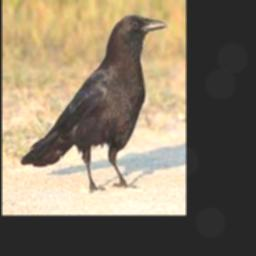Crow: (21, 15, 167, 192)
